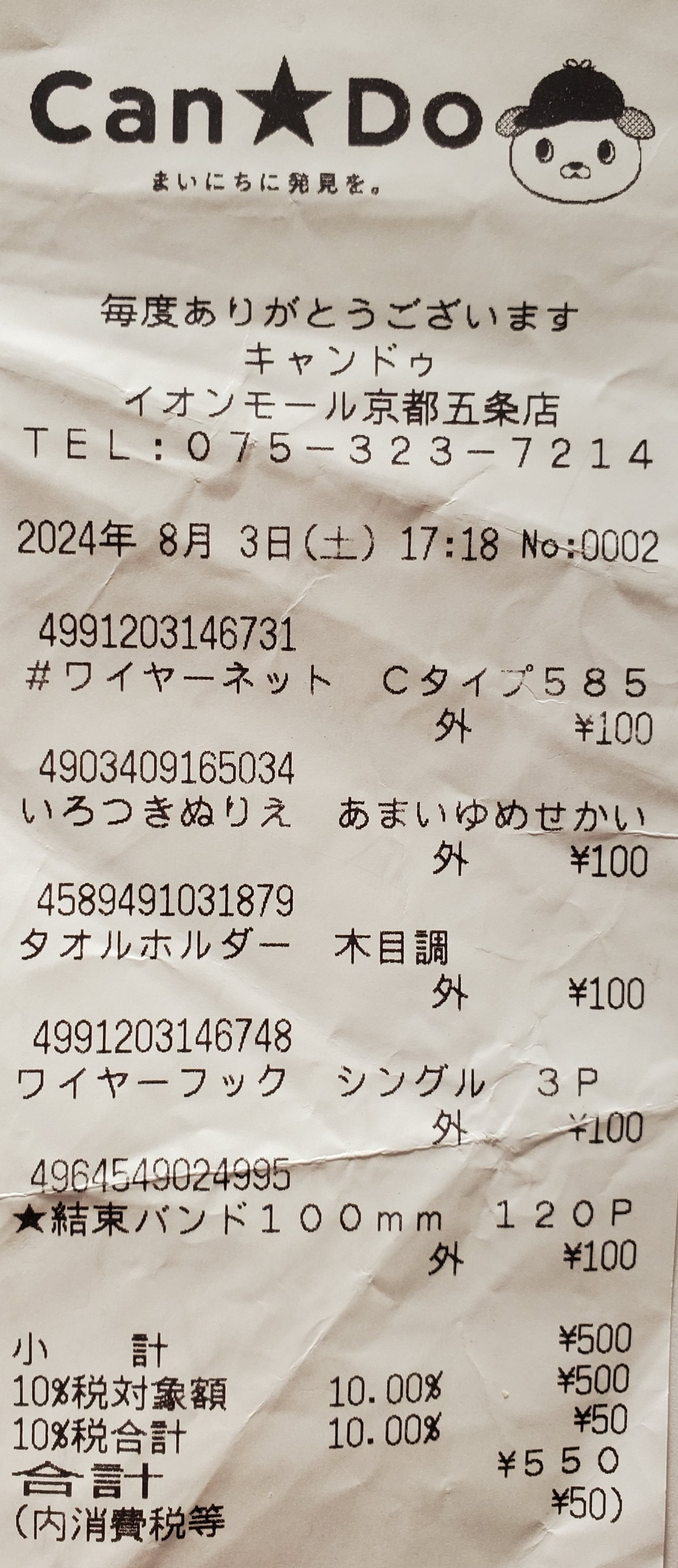Date: (13, 506, 303, 566)
Shopname: (20, 53, 494, 161)
Telnum: (179, 421, 667, 486)
Totalpay: (9, 1446, 640, 1497)
